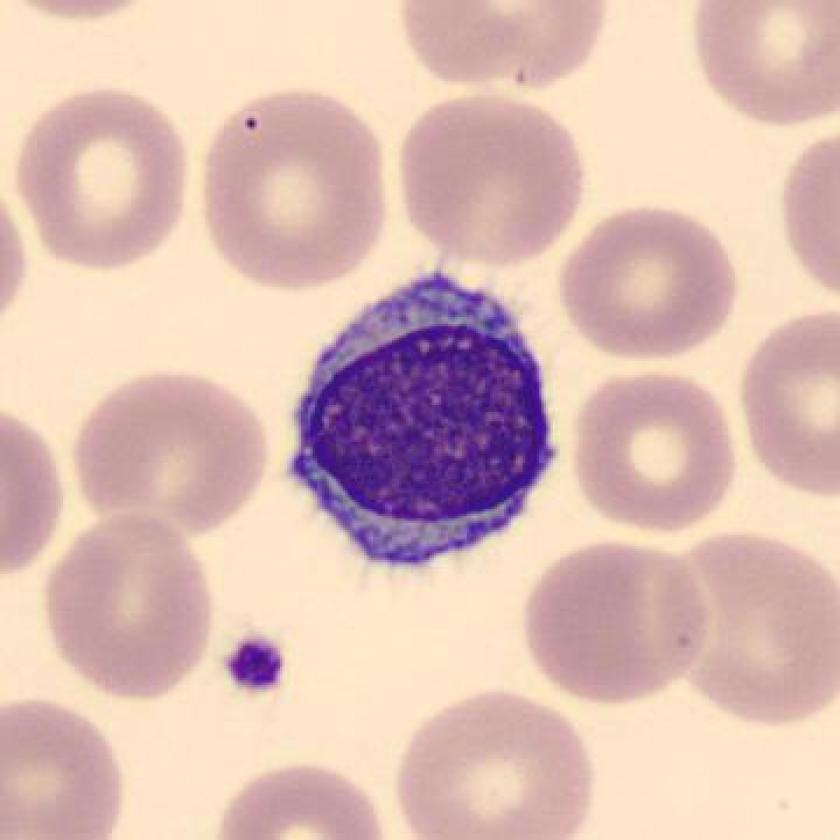lymphocyte: (267, 256, 570, 584)
